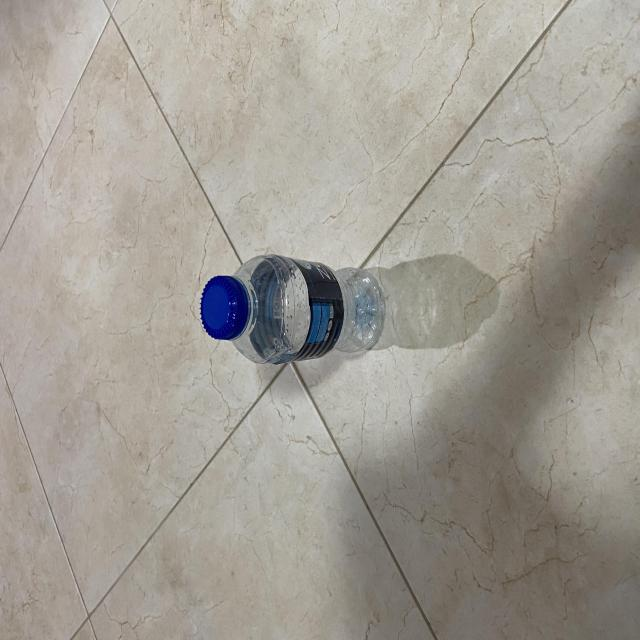bottle: (178, 248, 388, 372)
